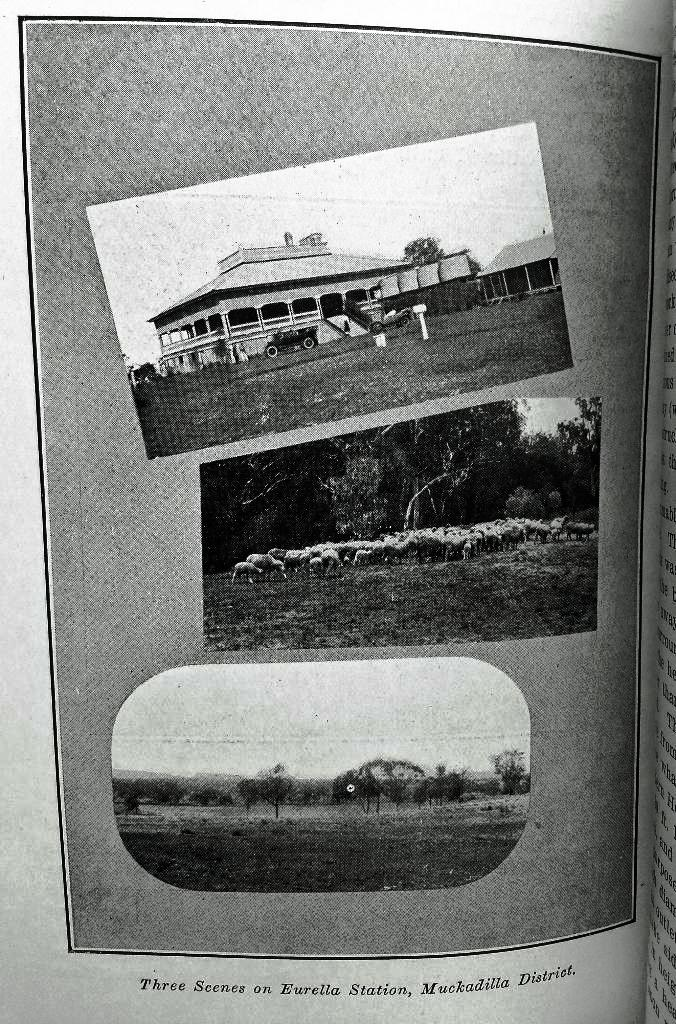Sheep: (251, 556, 287, 583), (229, 560, 262, 586), (352, 547, 377, 569), (569, 522, 594, 539)
